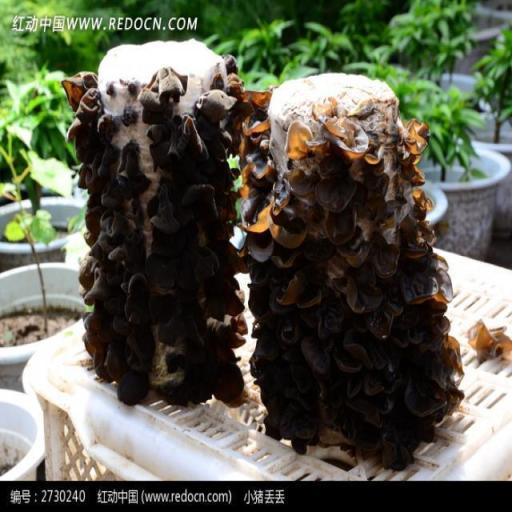Wood Ear Mushroom: (230, 89, 460, 461), (62, 75, 242, 405), (466, 321, 512, 361)
